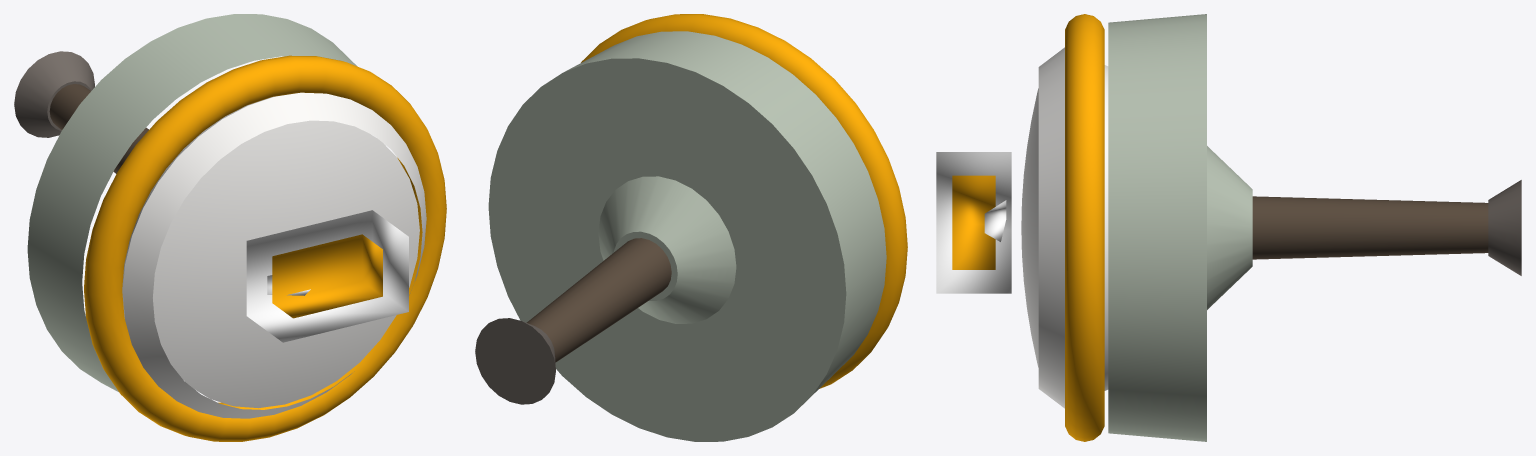
File: pin-stimme.glb
3 views of the same model, side by side, from view 1: azimuth 30°, elevation 25°; view 2: azimuth 150°, elevation 25°; view 3: azimuth 270°, elevation 25° (orthographic). The views are drawn at different scales.
Parts seen in each view (by area): view 1: plate_dome, ring, head, plate_bevel, bubble, inner, foot, stem, plate_wall; view 2: head, collar, ring, stem, foot; view 3: head, ring, stem, plate_bevel, bubble, collar, inner, plate_dome, foot, plate_wall, tail.
Boxes of the visible parts, left/top/right/bottom form: plate_dome: left=153, top=120, right=419, bottom=408; ring: left=84, top=55, right=446, bottom=441; head: left=27, top=14, right=357, bottom=391; plate_bevel: left=122, top=92, right=426, bottom=418; bubble: left=246, top=210, right=408, bottom=342; inner: left=272, top=234, right=382, bottom=318; foot: left=14, top=51, right=94, bottom=137; stem: left=49, top=84, right=148, bottom=173; plate_wall: left=122, top=93, right=297, bottom=318; head: left=488, top=31, right=886, bottom=441; collar: left=598, top=176, right=736, bottom=323; ring: left=581, top=14, right=907, bottom=388; stem: left=526, top=238, right=671, bottom=362; foot: left=475, top=318, right=555, bottom=404; head: left=1108, top=14, right=1206, bottom=441; ring: left=1065, top=14, right=1104, bottom=441; stem: left=1252, top=196, right=1488, bottom=259; plate_bevel: left=1038, top=47, right=1064, bottom=408; bubble: left=936, top=152, right=1011, bottom=293; collar: left=1207, top=146, right=1252, bottom=309; inner: left=952, top=175, right=995, bottom=269; plate_dome: left=1021, top=88, right=1038, bottom=367; foot: left=1488, top=180, right=1521, bottom=275; plate_wall: left=1104, top=65, right=1108, bottom=390; tail: left=984, top=200, right=1006, bottom=241.
Size of the model in its own units: 0.796 by 0.796 by 1.09.
